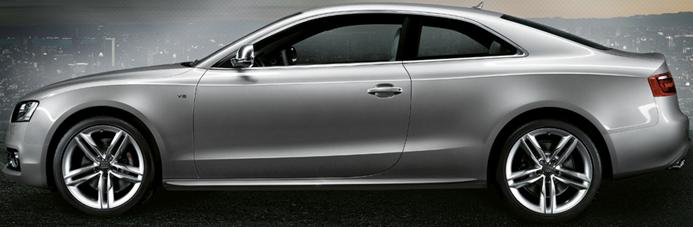backlight: (644, 68, 683, 100)
headlight: (8, 100, 43, 126)
side_glass: (227, 17, 521, 69)
